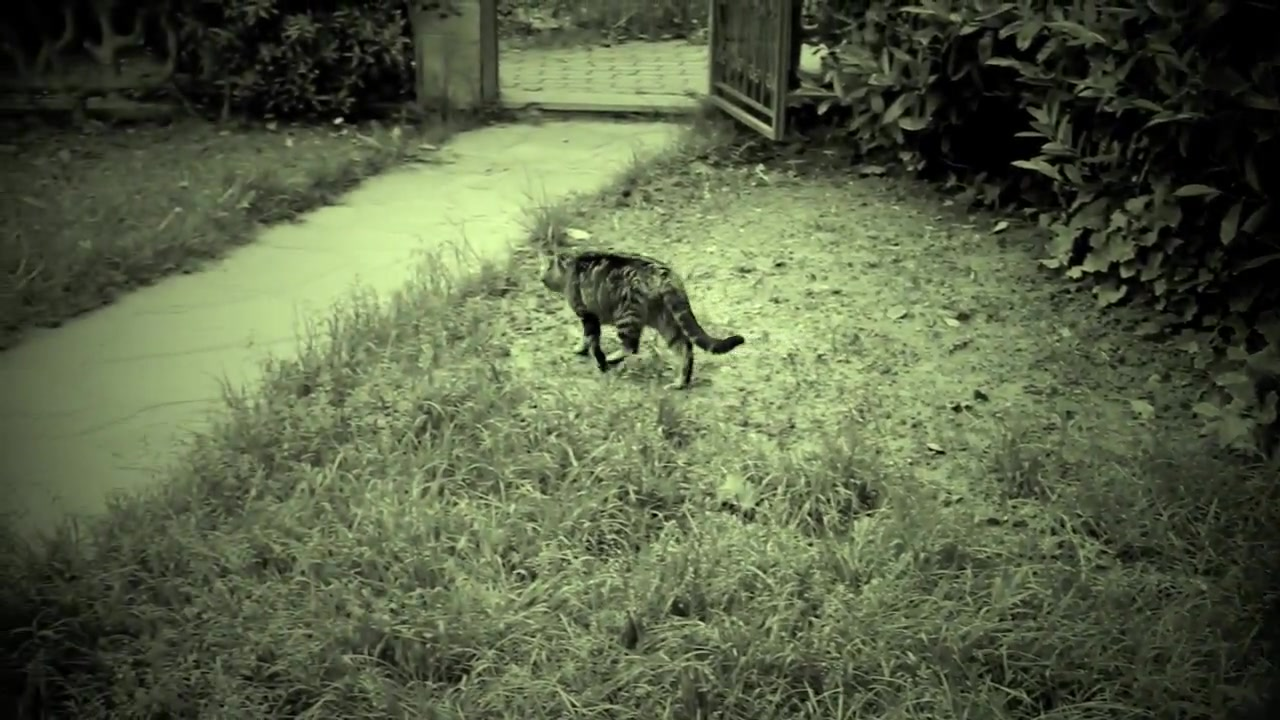cat: (540, 245, 746, 391)
